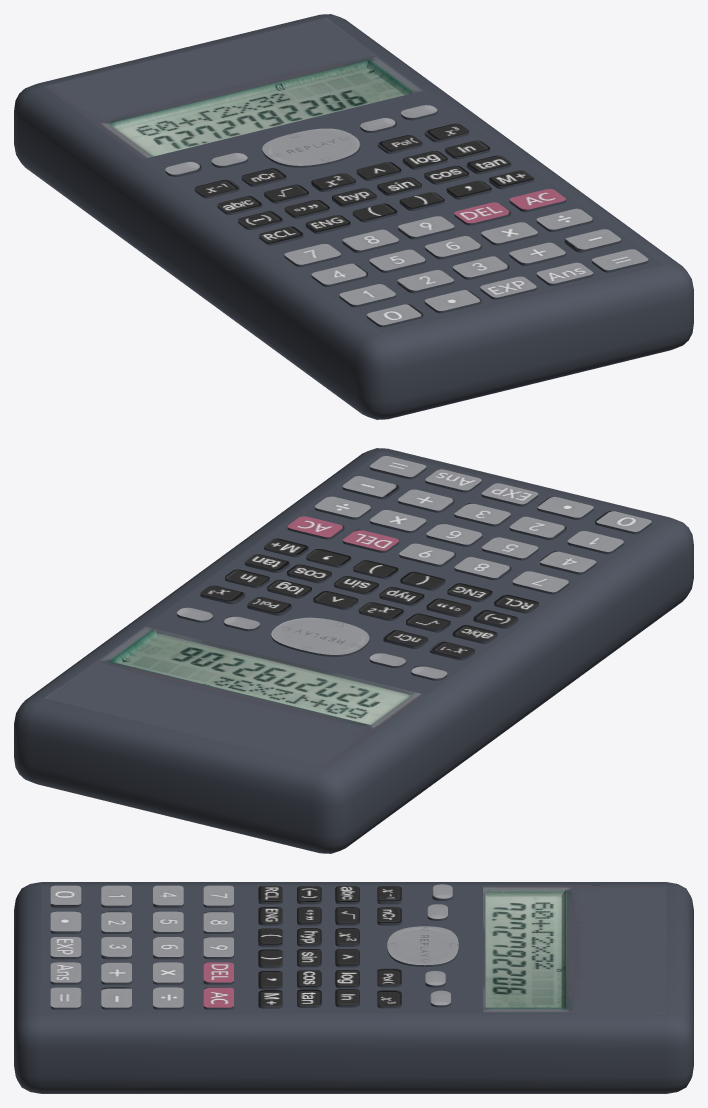
File: Calculator.fbx
The picture shows the model from 3 angles, top to bottom: view 1: azimuth 30°, elevation 25°; view 2: azimuth 150°, elevation 25°; view 3: azimuth 270°, elevation 25°; orthographic projection. The views are drawn at different scales.
Visible parts, largest first — view 1: Calculator; view 2: Calculator; view 3: Calculator.
Boxes of the visible parts, left/top/right/bottom form: Calculator: left=14, top=14, right=693, bottom=419; Calculator: left=14, top=448, right=693, bottom=853; Calculator: left=14, top=882, right=693, bottom=1093.
Size of the model in its own units: 8.52 by 2.08 by 16.23.
Materials: 1 (1 with a texture image).
